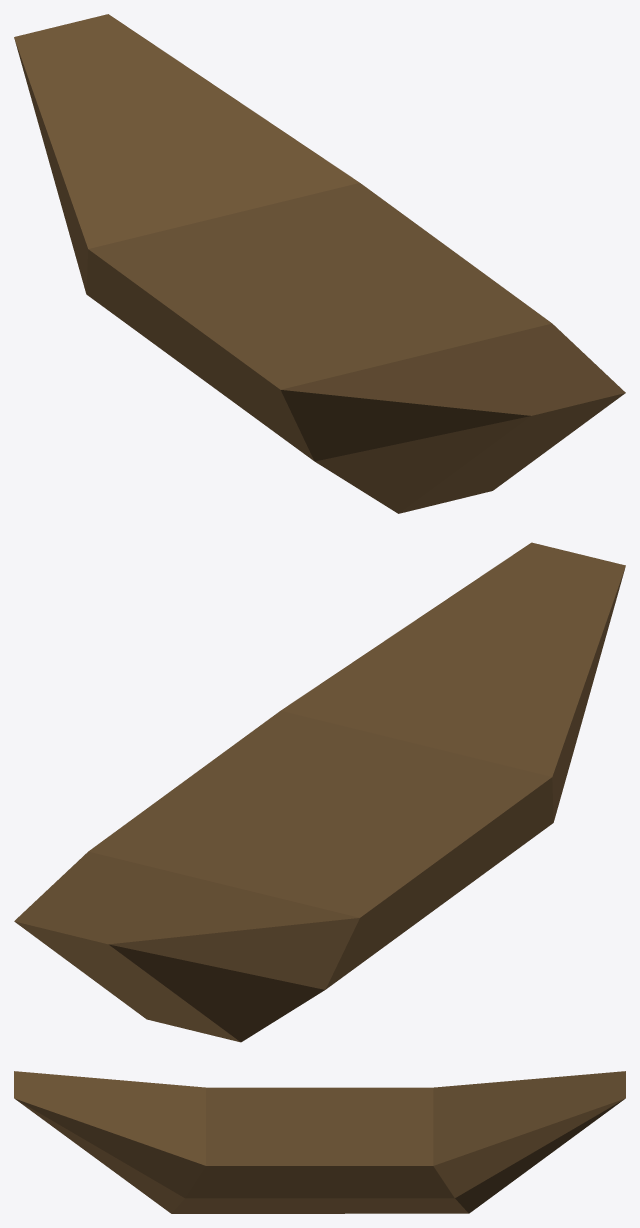
File: Boat1.fbx
3 renders of one model, top to bottom at view 1: azimuth 30°, elevation 25°; view 2: azimuth 150°, elevation 25°; view 3: azimuth 270°, elevation 25°, orthographic. The views are drawn at different scales.
Parts seen in each view (by area): view 1: pTorus1; view 2: pTorus1; view 3: pTorus1.
Part boxes in pixels (left/top/right/bottom): pTorus1: left=14, top=14, right=625, bottom=513; pTorus1: left=14, top=542, right=625, bottom=1042; pTorus1: left=14, top=1071, right=625, bottom=1213.
Size of the model in its own units: 0.9848 by 0.6766 by 3.25.
